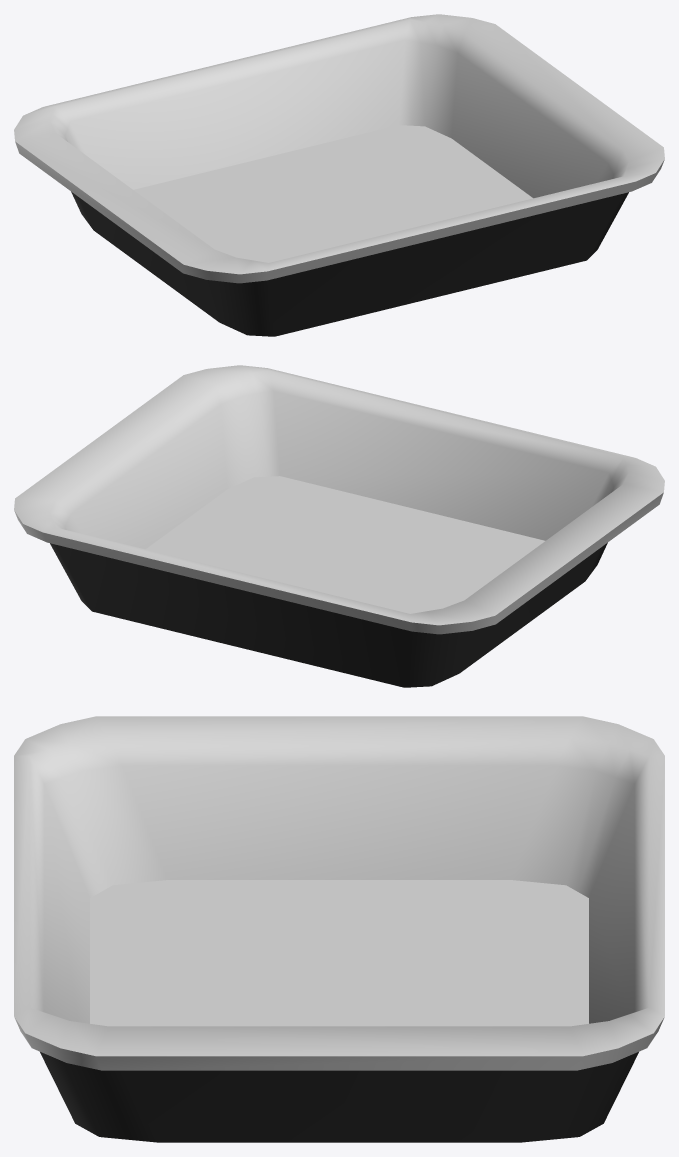
The model's file is BakingMold_03.fbx.
3 renders of one model, top to bottom at view 1: azimuth 30°, elevation 25°; view 2: azimuth 150°, elevation 25°; view 3: azimuth 270°, elevation 25°, orthographic. The views are drawn at different scales.
Parts seen in each view (by area): view 1: BakingMold_03; view 2: BakingMold_03; view 3: BakingMold_03.
Part boxes in pixels (x1,y1,x2,y2): BakingMold_03: (14, 14, 664, 336); BakingMold_03: (14, 365, 664, 687); BakingMold_03: (14, 716, 664, 1142).
Bounding box in the file's own units: 0.3059 × 0.0551 × 0.2478.
